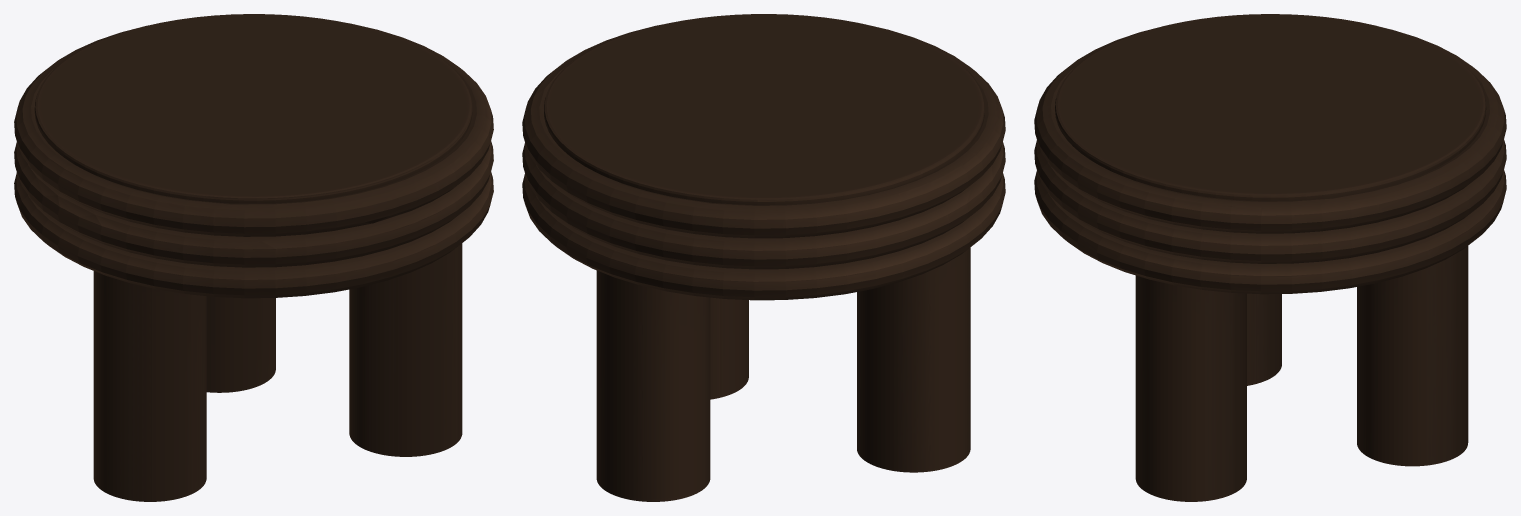
Rendered from Pier_Stool_ac4d4119-b468-4843-81e0-30c7693f30e7_3.glb.
3 views of the same model, side by side, from view 1: azimuth 30°, elevation 25°; view 2: azimuth 150°, elevation 25°; view 3: azimuth 270°, elevation 25° (orthographic). The views are drawn at different scales.
Parts seen in each view (by area): view 1: Pier_Stool_ac4d4119-b468-4843-81e0-30c7693f30e7_3.obj; view 2: Pier_Stool_ac4d4119-b468-4843-81e0-30c7693f30e7_3.obj; view 3: Pier_Stool_ac4d4119-b468-4843-81e0-30c7693f30e7_3.obj.
Part boxes in pixels (x1,y1,x2,y2): Pier_Stool_ac4d4119-b468-4843-81e0-30c7693f30e7_3.obj: [14, 14, 493, 501]; Pier_Stool_ac4d4119-b468-4843-81e0-30c7693f30e7_3.obj: [522, 14, 1005, 501]; Pier_Stool_ac4d4119-b468-4843-81e0-30c7693f30e7_3.obj: [1034, 14, 1506, 501].
Size of the model in its own units: 0.2202 by 0.1648 by 0.2202.
1 material, 1 textured.
